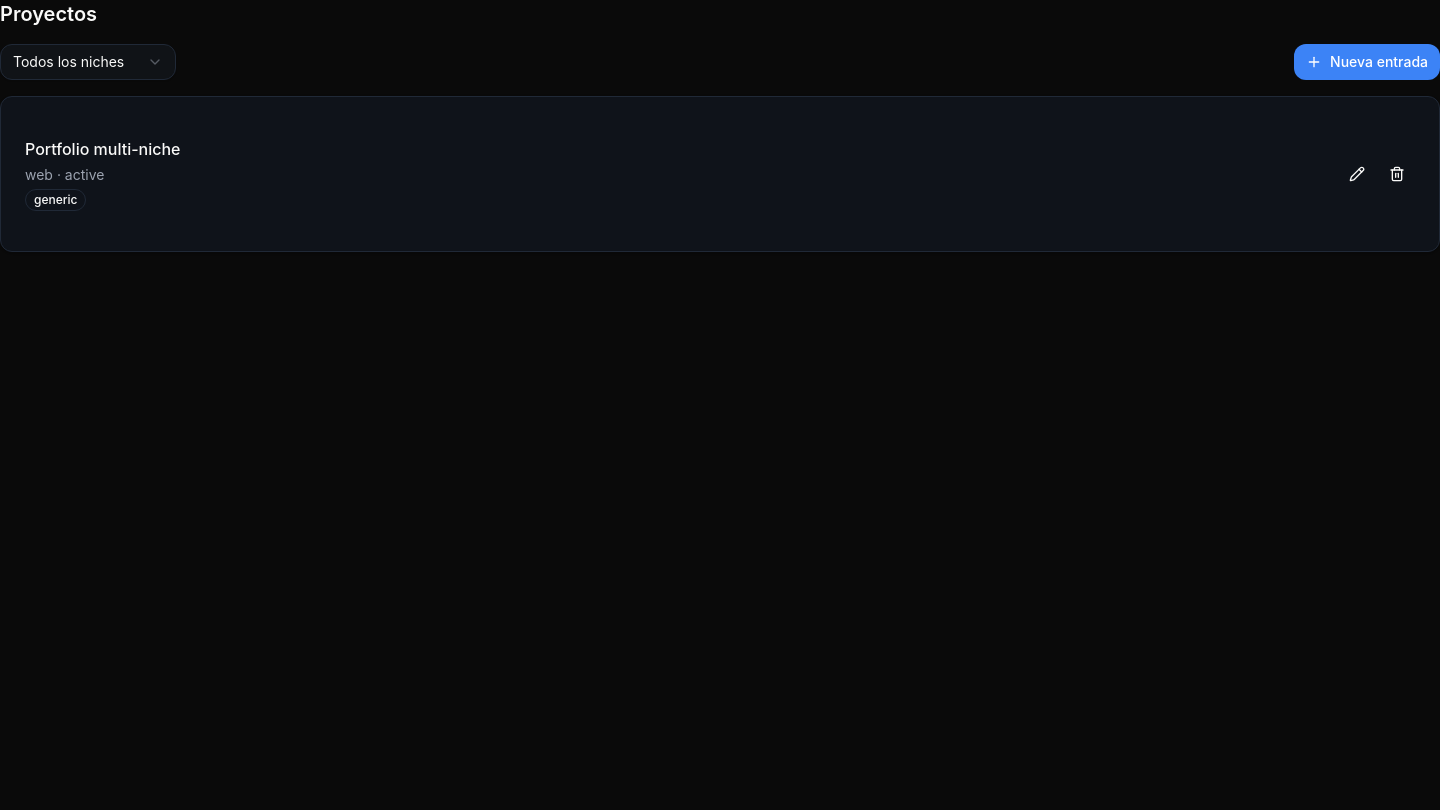
Test: CvEntitySection › Given la seccion projects When se edita la card Then monta ProjectForm hidratado
The image size is (1440, 810).
Expected: the number of elements with test id "cv-entity-card" is 1, [0,96,1439,252]
What coordinates should you click on to do the following:
click the button with test id "cv-entity-edit"
I would click on:
 (1357, 174)
Its box is [1339,156,1375,192].
(page scrolled)
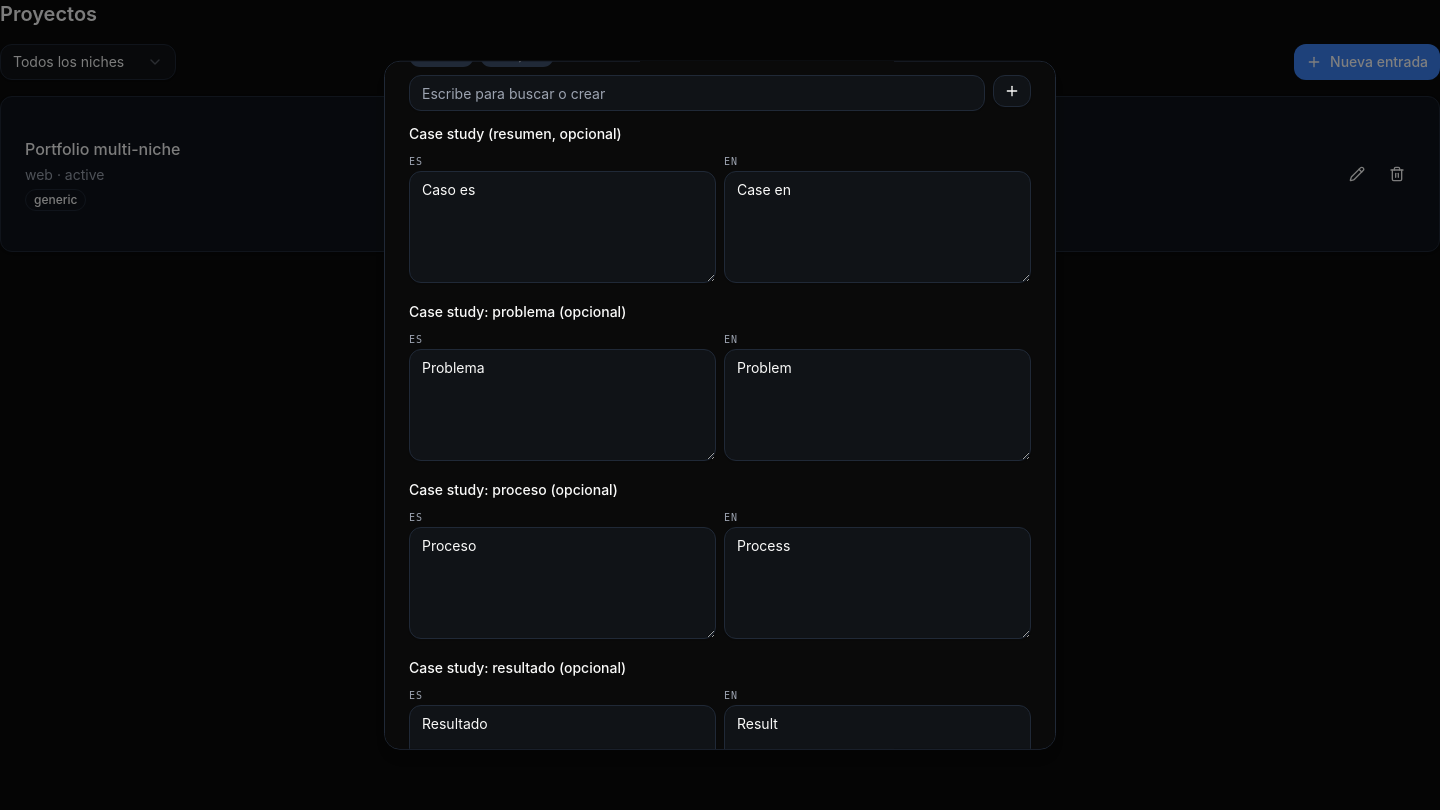
Result: the text box with test id "bilang-caseStudyProblem-es" holds "Problema" at [409,349,716,461]
